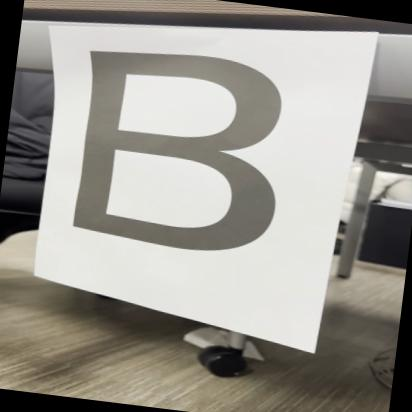seat: (48, 38, 308, 269)
